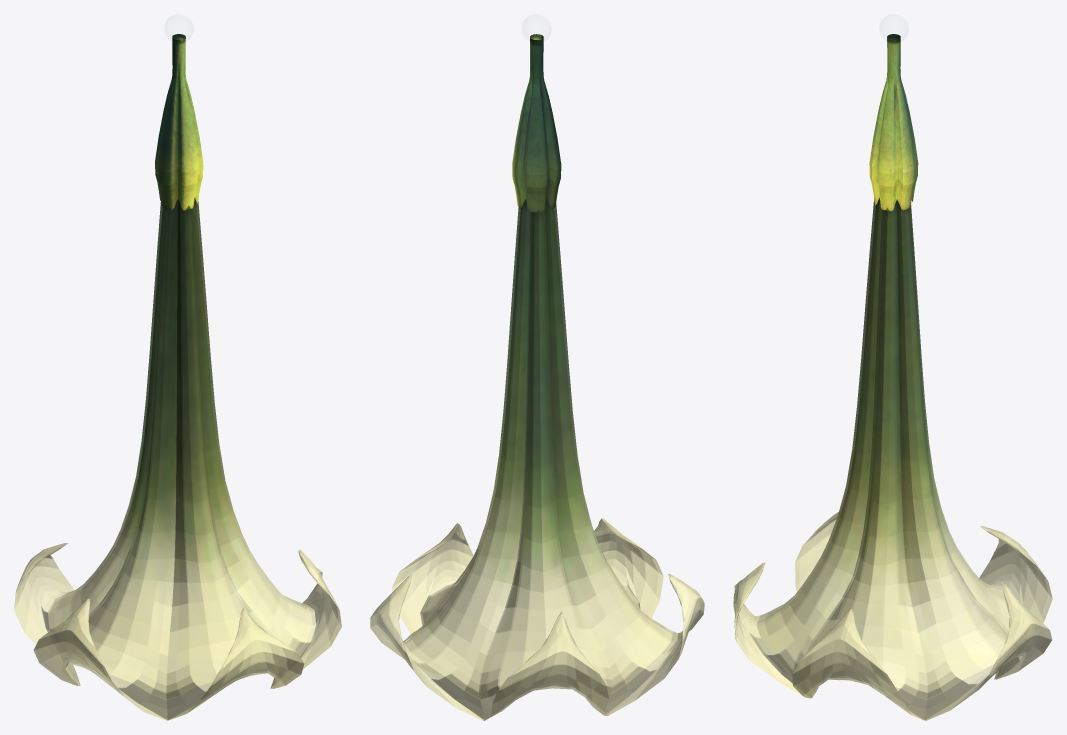
Rendered from trumpet-flower-1a1cd2.glb.
3 views of the same model, side by side, from view 1: azimuth 30°, elevation 25°; view 2: azimuth 150°, elevation 25°; view 3: azimuth 270°, elevation 25° (orthographic).
Visible parts, largest first — view 1: PropMesh; view 2: PropMesh; view 3: PropMesh.
Part boxes in pixels (x1,y1,x2,y2): PropMesh: (14,34,341,720); PropMesh: (370,34,704,720); PropMesh: (733,34,1052,720).
Size of the model in its own units: 0.1354 by 0.3 by 0.1308.
4 materials, 3 textured.
